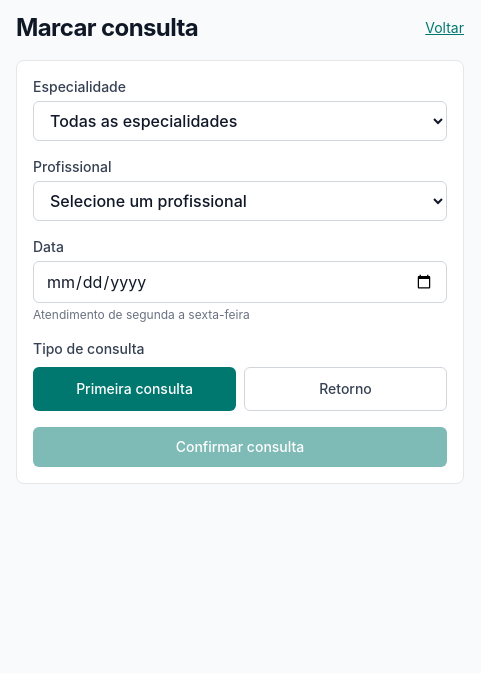
RN04: Exclusividade de Atendimento e Prevenção de Conflitos (Front-end) › exibe alerta de conflito e limpa seleção de horário quando a API retorna 409
# Selecionar profissional
Select "Dr. Roberto (Cardiologia)" in the dropdown labelled "Profissional" at x=240, y=201, box top-left (33, 181), bottom-right (447, 221)
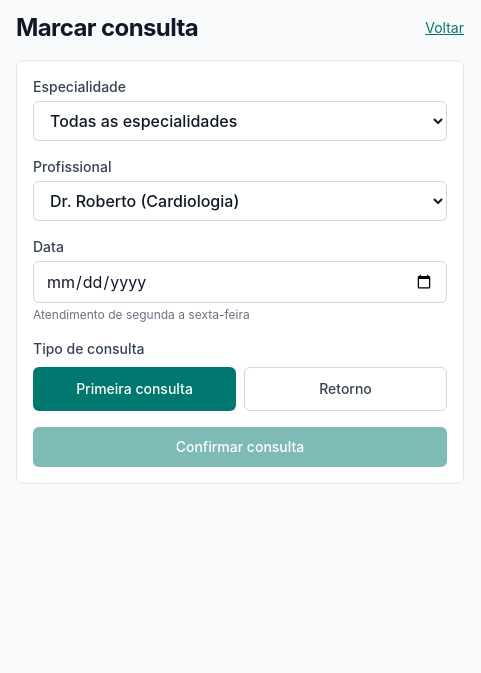
# Selecionar data
Type "2026-10-26" into the date field labelled "Data" at x=240, y=282, box top-left (33, 261), bottom-right (447, 303)
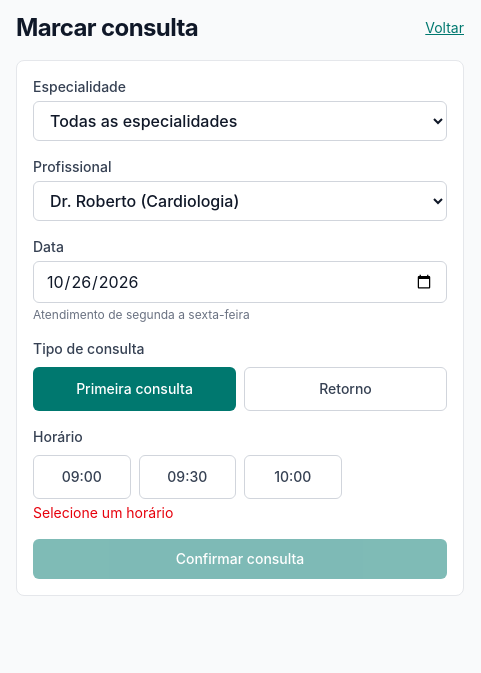
expect the button "09:00" is shown: met
# Selecionar horário 09:00
Click the button "09:00" at x=82, y=477, box top-left (33, 455), bottom-right (130, 499)
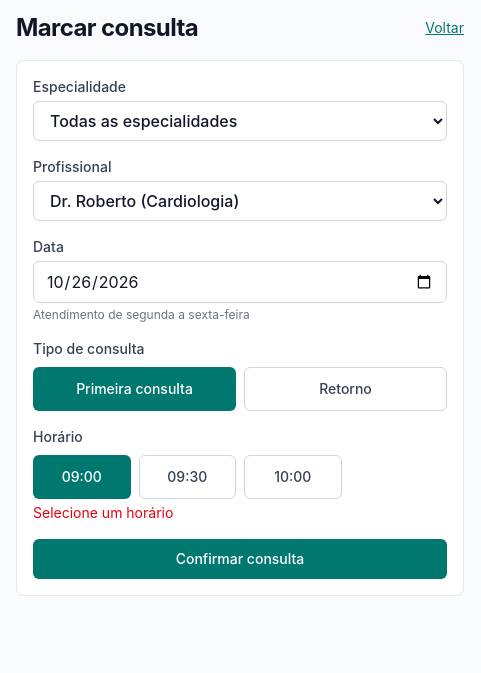
# Submeter formulário
Click the button "Confirmar consulta" at x=240, y=559, box top-left (33, 539), bottom-right (447, 579)
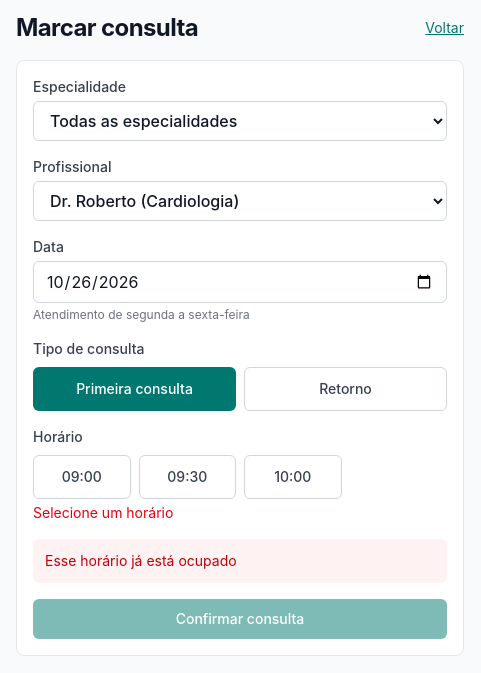
expect the text "Esse horário já está ocupado" is shown: met, box top-left (33, 539), bottom-right (447, 583)
expect the button "Confirmar consulta" is disabled: met, box top-left (33, 599), bottom-right (447, 639)
